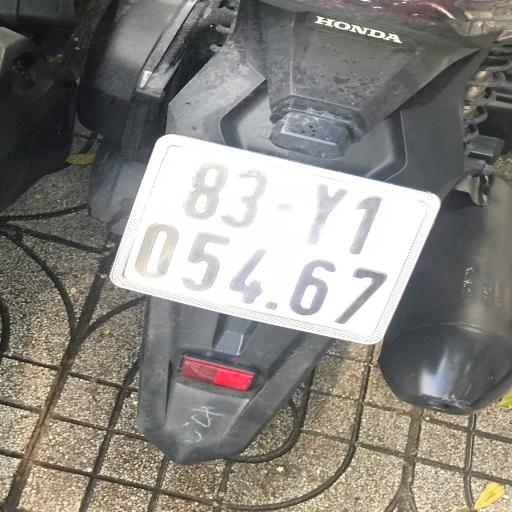0: (128, 212, 183, 286)
1: (350, 183, 388, 266)
3: (231, 157, 270, 235)
4: (232, 246, 276, 310)
5: (182, 227, 232, 300)
6: (284, 254, 342, 326)
7: (335, 262, 390, 333)
8: (184, 151, 234, 230)
Y: (307, 177, 354, 249)
